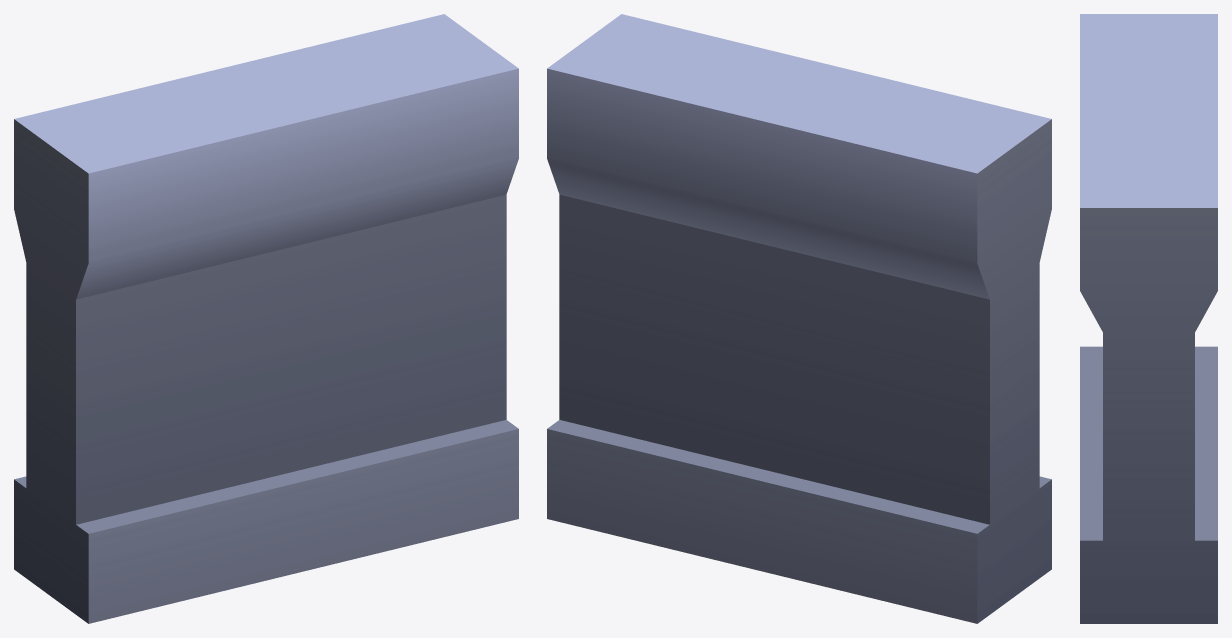
The model's file is wall.obj.
3 renders of one model, left to right at view 1: azimuth 30°, elevation 25°; view 2: azimuth 150°, elevation 25°; view 3: azimuth 270°, elevation 25°, orthographic. The views are drawn at different scales.
Parts seen in each view (by area): view 1: wall; view 2: wall; view 3: wall.
Boxes of the visible parts, left/top/right/bottom form: wall: left=14, top=14, right=518, bottom=623; wall: left=547, top=14, right=1051, bottom=623; wall: left=1080, top=14, right=1217, bottom=623.
Bounding box in the file's own units: 1 × 1 × 0.3.
Materials: 1 (1 with a texture image).
